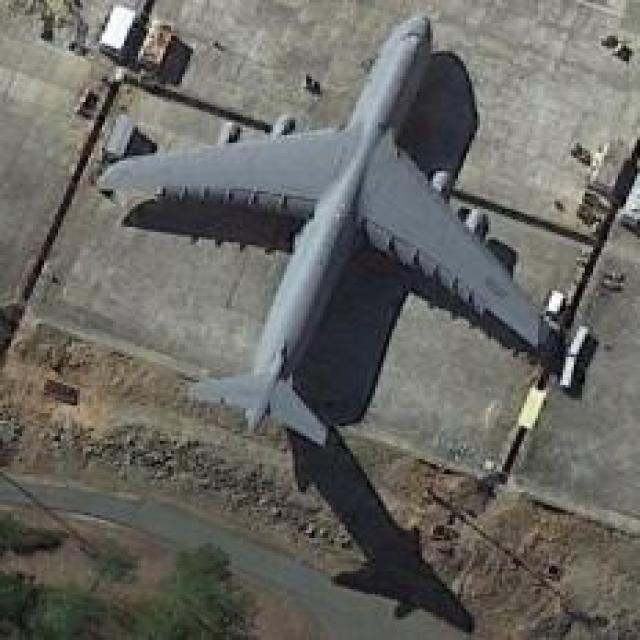C-5_TopDown: (87, 12, 549, 632)
